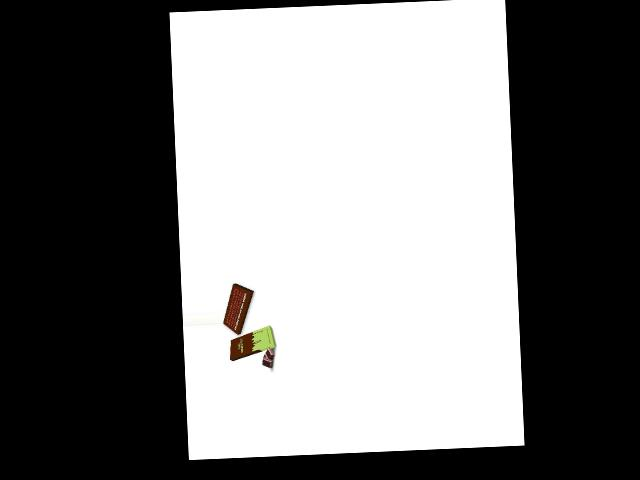chocolate: (227, 327, 278, 357)
